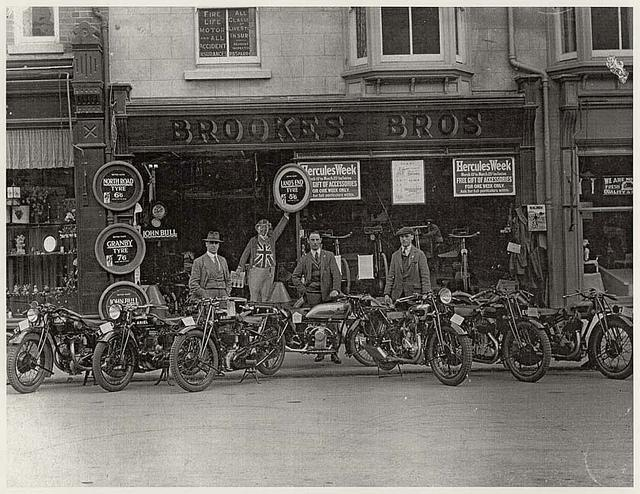bicycle: (448, 226, 482, 294), (322, 230, 354, 295)
motorcycle: (346, 287, 472, 385), (169, 298, 290, 390), (91, 301, 199, 394), (451, 290, 552, 380), (538, 288, 634, 378), (9, 303, 98, 393), (269, 280, 358, 356)
